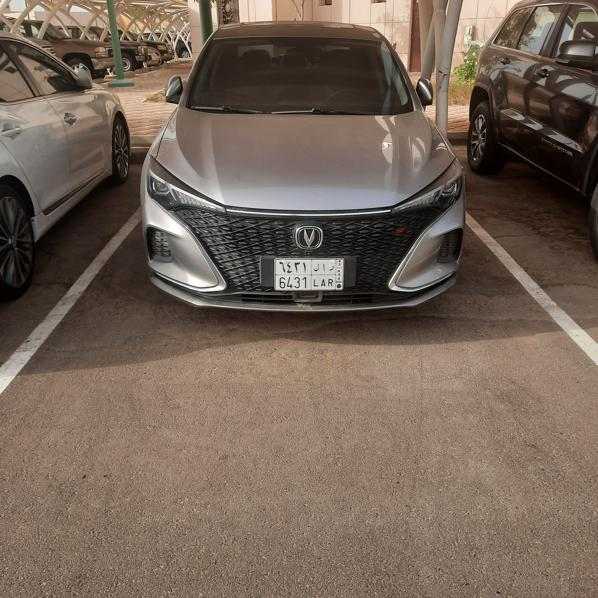numberplate: (275, 258, 343, 289)
